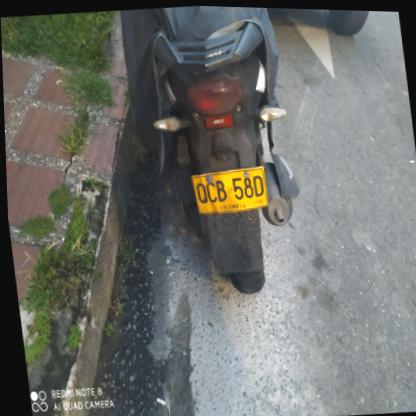placa: (186, 160, 272, 218)
